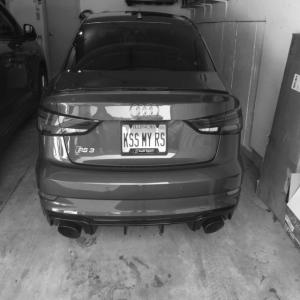Plate: (121, 122, 168, 155)
